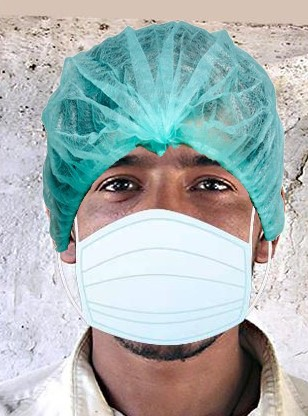with_mask_and_cap: (46, 24, 275, 352)
